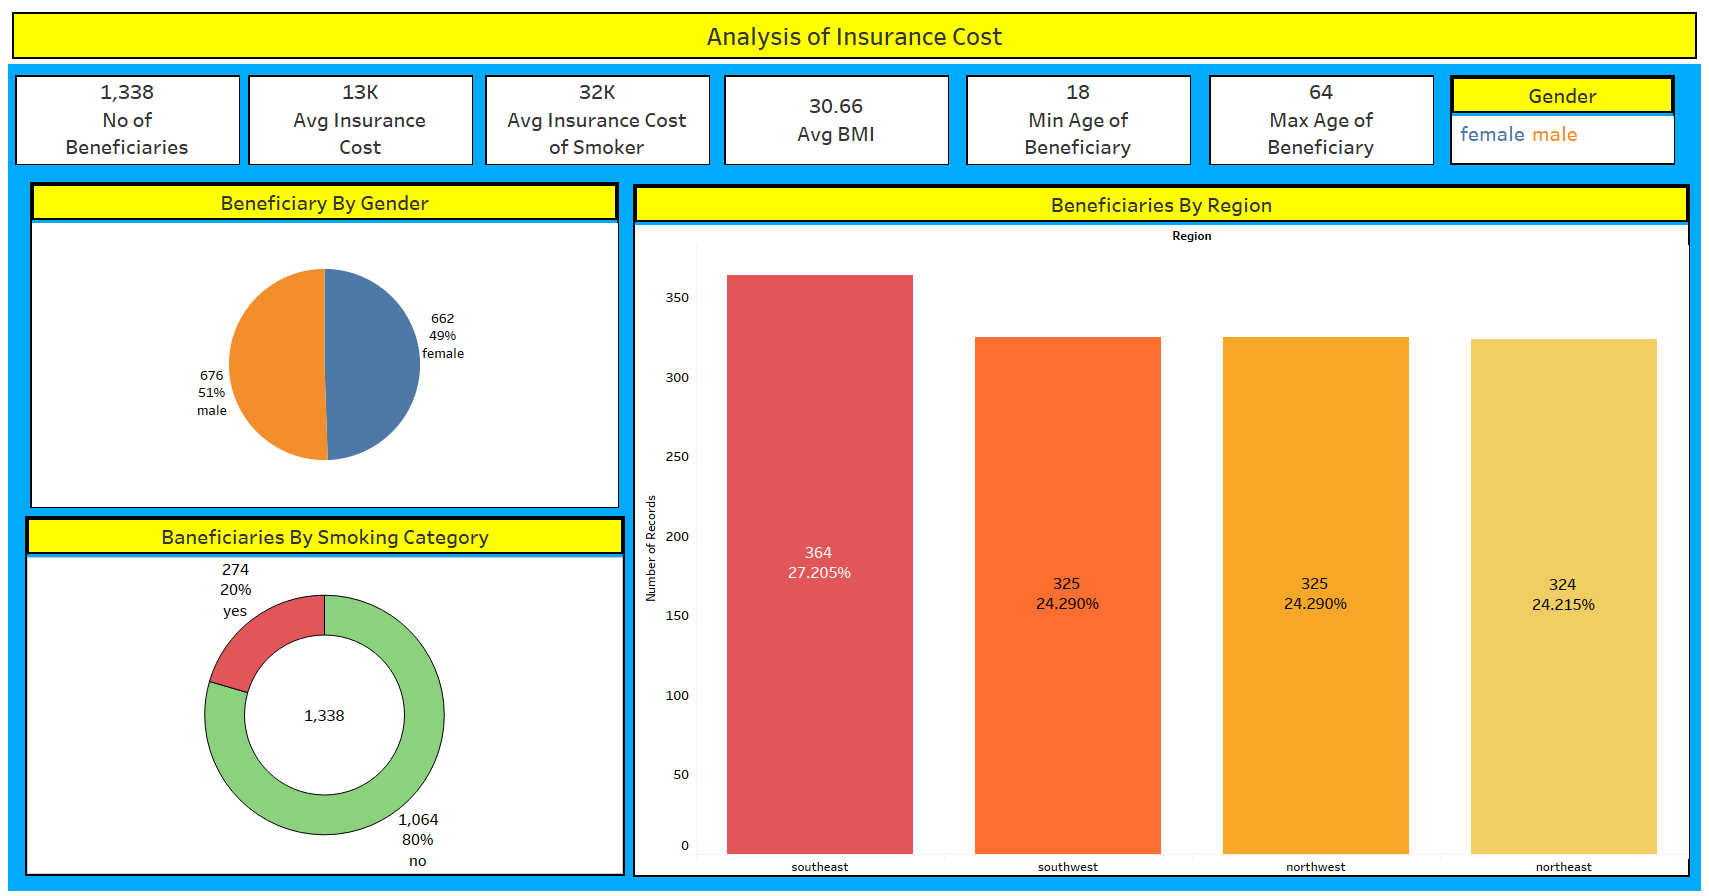

Layout of this report page (visuals, bound fields, positions):
{"tool":"tableau","page":{"name":"Dashboard 1","canvas":[1000,1000],"units":"permille","ordinal":0},"visuals":[{"type":"title","box":[4.7,8.9,990.6,61.4]},{"type":"worksheet","title":"No of Beneficiaries","mark":"Automatic","box":[8.8,83.7,131.7,100.5]},{"type":"worksheet","title":"Avg Insurance Cost","mark":"Automatic","box":[145.1,83.7,131.7,100.5]},{"type":"worksheet","title":"Avg Insurance Cost For Smoker","mark":"Automatic","box":[283.8,83.7,131.7,100.5]},{"type":"worksheet","title":"Avg BMI","mark":"Automatic","box":[423.6,83.7,131.7,100.5]},{"type":"worksheet","title":"Minimum age of beneficiary","mark":"Automatic","box":[565.2,83.7,131.7,100.5]},{"type":"worksheet","title":"Maximum age of beneficiary","mark":"Automatic","box":[707.4,83.7,131.7,100.5]},{"type":"worksheet","title":"Gender","mark":"Automatic","box":[848.2,83.7,131.9,100.5]},{"type":"worksheet","title":"Beneficiary By Gender","mark":"Pie","box":[17.6,203.1,344.7,363.8]},{"type":"worksheet","title":"Beneficiaries By Region","mark":"Bar","rows":["Number of Records"],"cols":["region"],"box":[370.6,205.4,618.3,773.4]},{"type":"worksheet","title":"Baneficiaries By Smoking Category","mark":"Pie","rows":["Calculation_771241447293489157","Calculation_771241447293509639"],"box":[14.6,575.9,351.3,401.8]}]}

Visuals, with their boxes on the dashboard's canvas, which has no fixed pixel size, in thousandths of its width and height (x1, y1, x2, y2). These are canvas units, not pixel positions in the 1709x896 screenshot, which may show the page scaled, cropped or inside an application window:
title: [5,9,995,70]
"No of Beneficiaries" worksheet: [9,84,140,184]
"Avg Insurance Cost" worksheet: [145,84,277,184]
"Avg Insurance Cost For Smoker" worksheet: [284,84,416,184]
"Avg BMI" worksheet: [424,84,555,184]
"Minimum age of beneficiary" worksheet: [565,84,697,184]
"Maximum age of beneficiary" worksheet: [707,84,839,184]
"Gender" worksheet: [848,84,980,184]
"Beneficiary By Gender" worksheet (Pie marks): [18,203,362,567]
"Beneficiaries By Region" worksheet (Bar marks): [371,205,989,979]
"Baneficiaries By Smoking Category" worksheet (Pie marks): [15,576,366,978]
